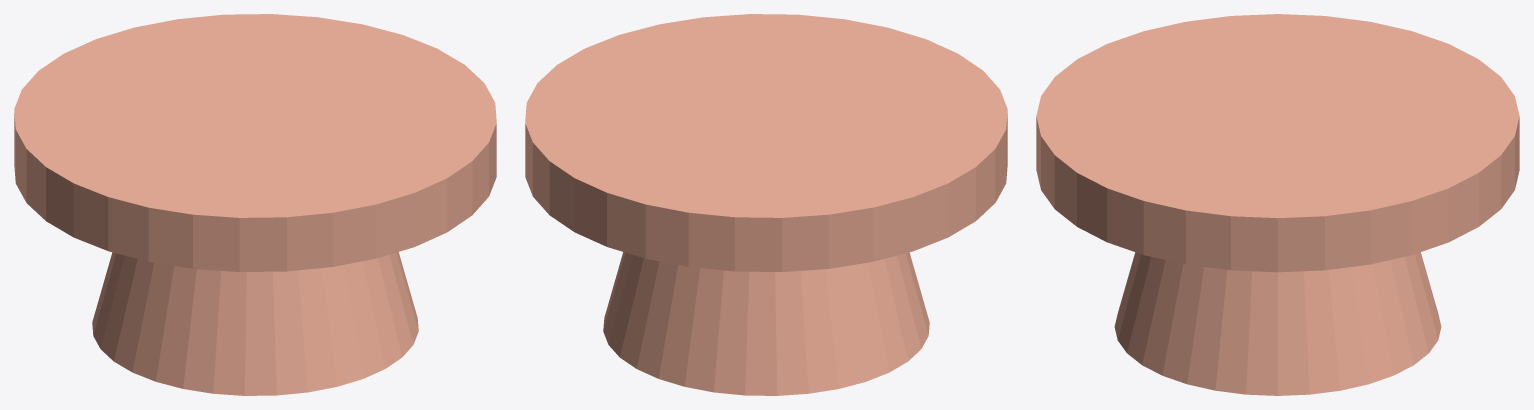
The model's file is woodtable.fbx.
3 views of the same model, side by side, from view 1: azimuth 30°, elevation 25°; view 2: azimuth 150°, elevation 25°; view 3: azimuth 270°, elevation 25° (orthographic).
Parts seen in each view (by area): view 1: Cylinder; view 2: Cylinder; view 3: Cylinder.
Boxes of the visible parts, box(x1,y1,x2,y2) form: Cylinder: box(14, 14, 496, 395); Cylinder: box(525, 14, 1007, 395); Cylinder: box(1036, 14, 1519, 395).
Bounding box in the file's own units: 377 × 181 × 377.
